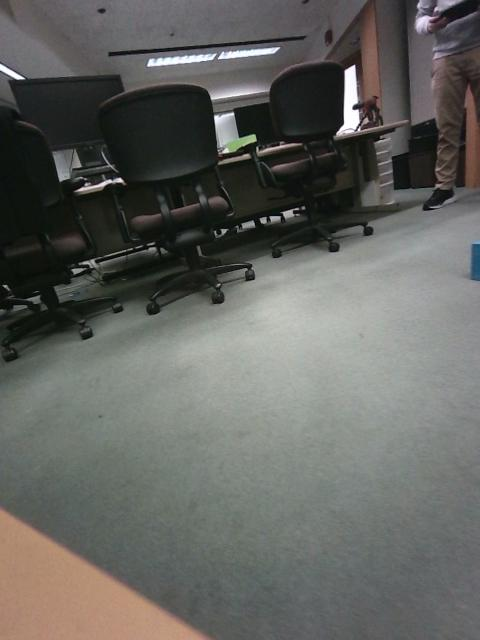block: (5, 440, 73, 535)
